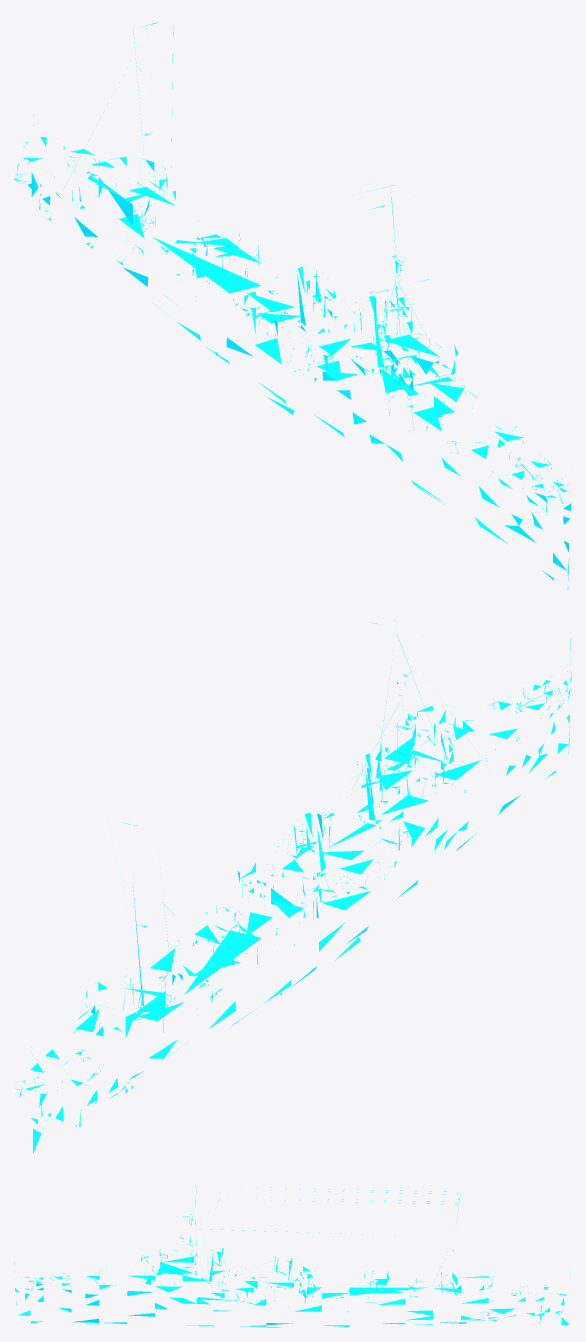
File: Turbine.glb
3 views of the same model, one above another, from view 1: azimuth 30°, elevation 25°; view 2: azimuth 150°, elevation 25°; view 3: azimuth 270°, elevation 25° (orthographic). The views are drawn at different scales.
Bounding box in the file's own units: 0.632 × 1.74 × 6.23.
